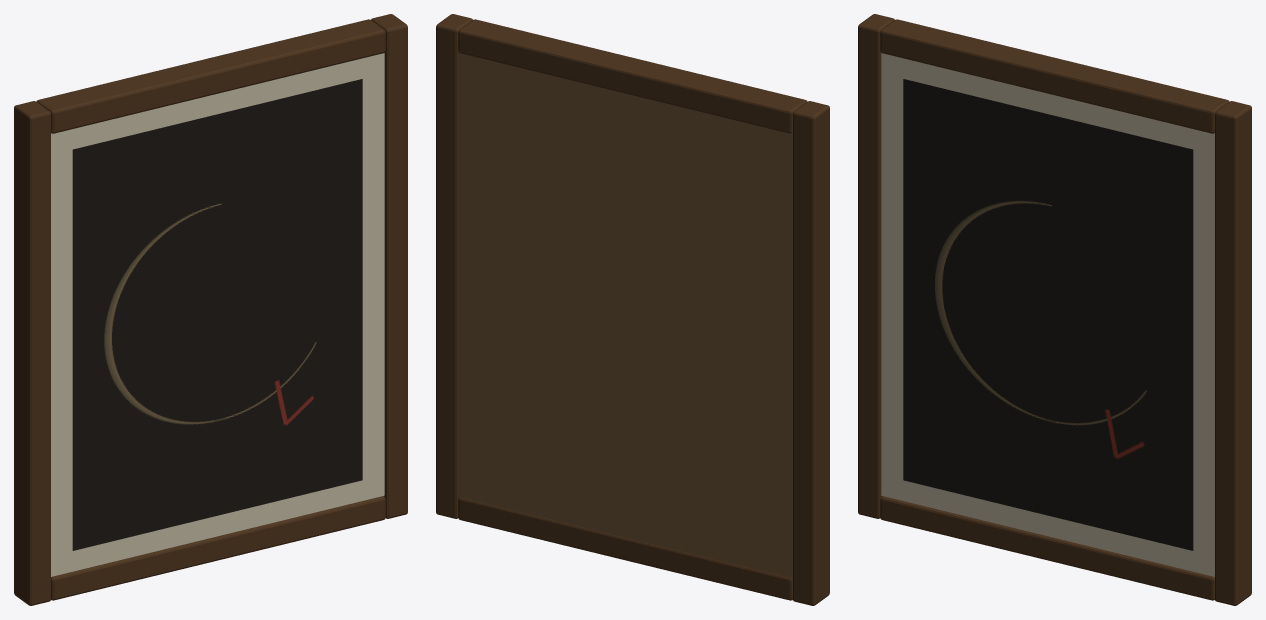
File: frame.glb
3 views of the same model, side by side, from view 1: azimuth 30°, elevation 25°; view 2: azimuth 150°, elevation 25°; view 3: azimuth 330°, elevation 25° (orthographic).
Parts seen in each view (by area): view 1: Frame_Picture_Surface, Frame_Paper_Mat, Frame_Vertical_Rail, Frame_Horizontal_Rail.001, Frame_Vertical_Rail.001, Frame_Horizontal_Rail; view 2: Frame_Backboard, Frame_Vertical_Rail, Frame_Horizontal_Rail.001, Frame_Vertical_Rail.001, Frame_Horizontal_Rail; view 3: Frame_Picture_Surface, Frame_Paper_Mat, Frame_Vertical_Rail.001, Frame_Horizontal_Rail.001, Frame_Vertical_Rail, Frame_Horizontal_Rail.
Part boxes in pixels (bbox=[...]): Frame_Picture_Surface: bbox=[72, 79, 362, 550]; Frame_Paper_Mat: bbox=[51, 53, 384, 576]; Frame_Vertical_Rail: bbox=[14, 101, 50, 605]; Frame_Horizontal_Rail.001: bbox=[36, 19, 385, 133]; Frame_Vertical_Rail.001: bbox=[371, 14, 407, 518]; Frame_Horizontal_Rail: bbox=[51, 496, 385, 600]; Frame_Backboard: bbox=[457, 36, 792, 594]; Frame_Vertical_Rail: bbox=[793, 101, 829, 605]; Frame_Horizontal_Rail.001: bbox=[458, 19, 807, 133]; Frame_Vertical_Rail.001: bbox=[436, 14, 472, 518]; Frame_Horizontal_Rail: bbox=[458, 497, 792, 600]; Frame_Picture_Surface: bbox=[903, 79, 1193, 550]; Frame_Paper_Mat: bbox=[881, 53, 1214, 576]; Frame_Vertical_Rail.001: bbox=[1215, 101, 1251, 605]; Frame_Horizontal_Rail.001: bbox=[880, 19, 1229, 133]; Frame_Vertical_Rail: bbox=[858, 14, 894, 518]; Frame_Horizontal_Rail: bbox=[880, 496, 1214, 600].
Bounding box in the file's own units: 0.34 × 0.42 × 0.026.
Materials: 4 (1 with a texture image).
